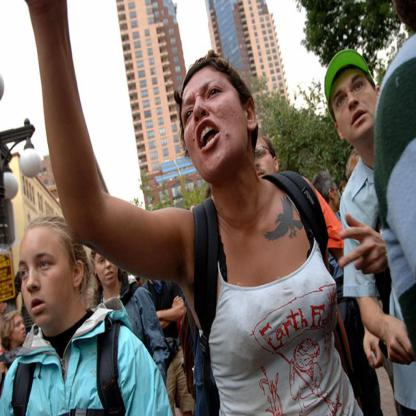face: (183, 79, 249, 174), (20, 236, 74, 326), (332, 69, 380, 138), (244, 141, 276, 188), (95, 251, 118, 286), (327, 180, 341, 209), (11, 319, 27, 342)
